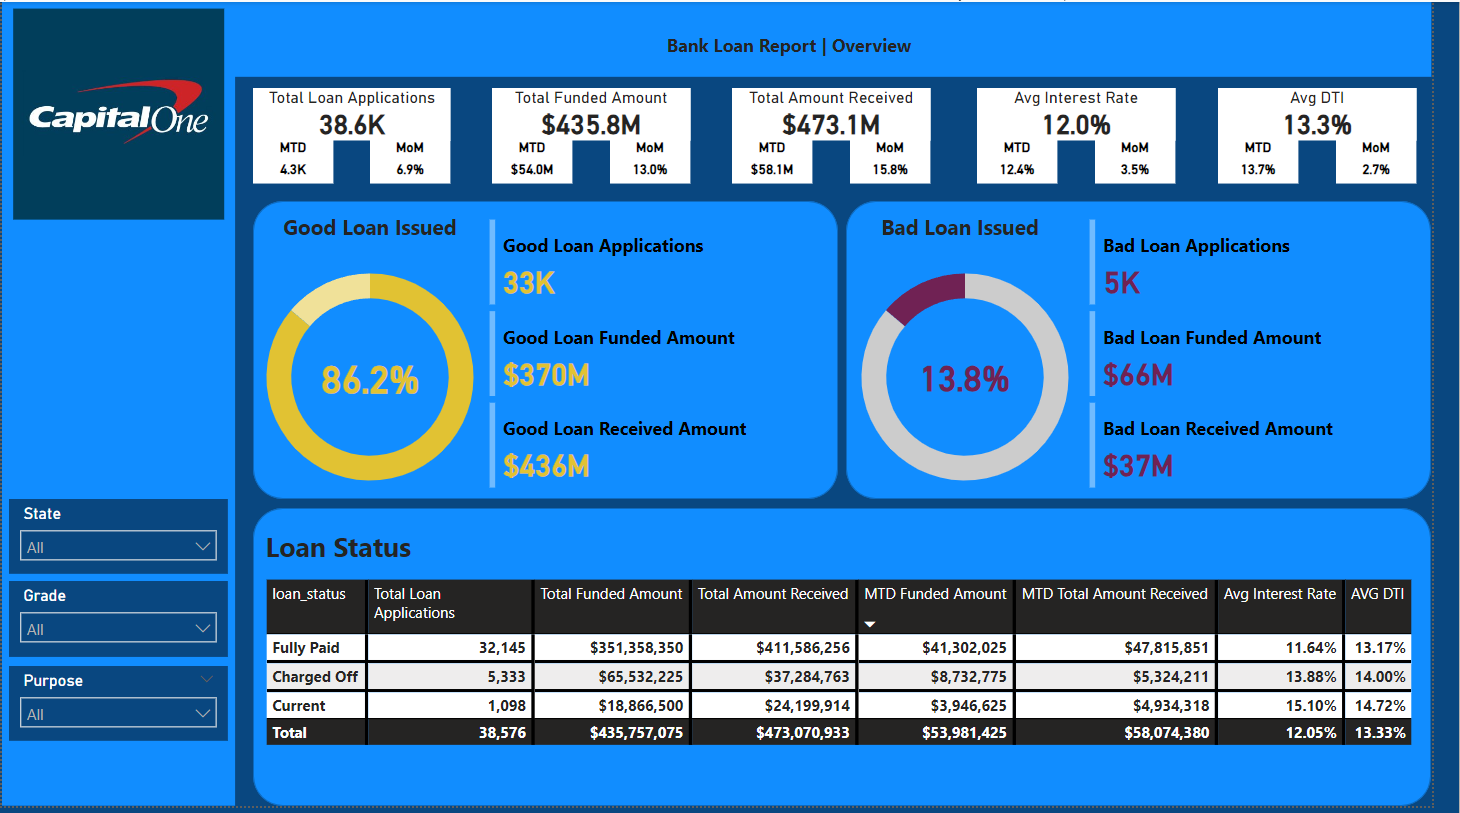

This screenshot's page, from the dashboard's own definition file:
{"tool":"powerbi","page":{"name":"Page 2","canvas":[1280,720],"ordinal":1},"visuals":[{"type":"shape","box":[0,0,1280,67.4],"z":0},{"type":"shape","box":[0,53.7,208.8,666.2],"z":1000},{"type":"textbox","box":[130.2,22.2,1149.8,36.6],"z":2000},{"type":"card","title":"Total Loan Applications","fields":{"Values":["CountNonNull(Bank_Loan_data.id)"]},"box":[224.8,77,177.3,46.6],"z":3000},{"type":"card","title":"Total Funded Amount","fields":{"Values":["Sum(Bank_Loan_data.loan_amount)"]},"box":[438.6,76.7,177.5,47],"z":4000},{"type":"card","title":"Avg Interest Rate","fields":{"Values":["Avg(Bank_Loan_data.int_rate)"]},"box":[873.4,76.7,177.5,47],"z":5000},{"type":"card","title":"Total Amount Received","fields":{"Values":["Sum(Bank_Loan_data.total_payment)"]},"box":[653.8,76.7,177.5,47],"z":6000},{"type":"card","title":"Avg DTI","fields":{"Values":["Avg(Bank_Loan_data.dti)"]},"box":[1088.7,76.7,177.5,47],"z":7000},{"type":"slicer","fields":{"Values":["Bank_Loan_data.address_state"]},"box":[6.3,445.1,196.1,67.2],"z":8000},{"type":"slicer","fields":{"Values":["Bank_Loan_data.grade"]},"box":[6.3,518.5,196.1,68.1],"z":9000},{"type":"slicer","fields":{"Values":["Bank_Loan_data.purpose"]},"box":[6.3,594.6,196.1,67.2],"z":10000},{"type":"card","title":"MTD","fields":{"Values":["Bank_Loan_data.MTD Loan Applications"]},"box":[224.8,123.6,71.6,39.4],"z":11000},{"type":"card","title":"MoM","fields":{"Values":["Bank_Loan_data.MoM Loan Application"]},"box":[329.6,123.6,71.6,39.4],"z":12000},{"type":"card","title":"MTD","fields":{"Values":["Bank_Loan_data.MTD Funded Amount"]},"box":[438.8,123.6,71.6,39.4],"z":13000},{"type":"card","title":"MoM","fields":{"Values":["Bank_Loan_data.MoM Total Funded Amount"]},"box":[544.5,123.6,71.6,39.4],"z":14000},{"type":"card","title":"MTD","fields":{"Values":["Bank_Loan_data.MTD Amount Received"]},"box":[653.7,123.6,71.6,39.4],"z":15000},{"type":"card","title":"MoM","fields":{"Values":["Bank_Loan_data.MoM Total Amount Received"]},"box":[759.4,123.6,71.6,39.4],"z":16000},{"type":"card","title":"MTD","fields":{"Values":["Bank_Loan_data.MTD Avg Interest Rate"]},"box":[873.1,123.6,71.6,39.4],"z":17000},{"type":"card","title":"MoM","fields":{"Values":["Bank_Loan_data.MoM Avg Int Rate"]},"box":[978.8,123.6,71.6,39.4],"z":18000},{"type":"card","title":"MTD","fields":{"Values":["Bank_Loan_data.MTD Avg DTI"]},"box":[1089,123.6,71.6,39.4],"z":19000},{"type":"card","title":"MoM","fields":{"Values":["Bank_Loan_data.MoM AVG DTI"]},"box":[1194.6,123.6,71.6,39.4],"z":20000},{"type":"shape","box":[224.8,178.2,523.9,266.9],"z":21000},{"type":"donutChart","fields":{"Category":["Bank_Loan_data.Good vs Bad Loan"],"Y":["CountNonNull(Bank_Loan_data.Good vs Bad Loan)"]},"box":[114.6,214.9,429.9,241.8],"z":22000},{"type":"shape","box":[755.8,178.2,523.9,266.9],"z":23000},{"type":"textbox","box":[161.2,183.6,336.7,48.4],"z":24000},{"type":"cardVisual","fields":{"Data":["Bank_Loan_data.Good Loan Applications","Bank_Loan_data.Good Loan Funded Amount","Bank_Loan_data.Good Loan Received Amount"]},"box":[431.6,189.9,310.7,251.6],"z":25000},{"type":"donutChart","fields":{"Category":["Bank_Loan_data.Good vs Bad Loan"],"Y":["CountNonNull(Bank_Loan_data.Good vs Bad Loan)"]},"box":[647.5,214.9,429.9,241.8],"z":26000},{"type":"textbox","box":[689.6,183.6,336.7,48.4],"z":27000},{"type":"card","title":"MoM","fields":{"Values":["Bank_Loan_data.Good Loan %"]},"box":[280.3,308.1,98.5,54.6],"z":28000},{"type":"card","title":"MoM","fields":{"Values":["Bank_Loan_data.Bad Loan %"]},"box":[806,298.2,111.9,74.3],"z":29000},{"type":"cardVisual","fields":{"Data":["Bank_Loan_data.Bad Loan Applications","Bank_Loan_data.Bad Loan Funded Amount","Bank_Loan_data.Bad Loan Received Amount"]},"box":[969,189.9,310.7,251.6],"z":30000},{"type":"shape","box":[224.8,453.1,1054.9,266.9],"z":31000},{"type":"tableEx","fields":{"Values":["Bank_Loan_data.loan_status","Bank_Loan_data.Total Loan Applications","Bank_Loan_data.Total Funded Amount","Bank_Loan_data.Total Amount Received","Bank_Loan_data.MTD Funded Amount","Bank_Loan_data.MTD Total Amount Received","Bank_Loan_data.Avg Interest Rate","Bank_Loan_data.AVG DTI"]},"box":[231,512.2,1048.7,164.8],"z":32000},{"type":"textbox","box":[231,465.7,300,46.6],"z":33000},{"type":"image","box":[0,0.9,208.7,198.8],"z":34000}]}

Visuals, with their boxes in screenshot pixels (x1, y1, x2, y2), scaled from the page's 1280x720 canvas onto the 1460x813 screenshot:
shape: crop(0, 0, 1459, 76)
shape: crop(0, 61, 238, 812)
textbox: crop(149, 25, 1459, 66)
"Total Loan Applications" card: crop(256, 87, 459, 140)
"Total Funded Amount" card: crop(500, 87, 703, 140)
"Avg Interest Rate" card: crop(996, 87, 1199, 140)
"Total Amount Received" card: crop(746, 87, 948, 140)
"Avg DTI" card: crop(1242, 87, 1444, 140)
slicer - Bank_Loan_data.address_state: crop(7, 503, 231, 578)
slicer - Bank_Loan_data.grade: crop(7, 585, 231, 662)
slicer - Bank_Loan_data.purpose: crop(7, 671, 231, 747)
"MTD" card: crop(256, 140, 338, 184)
"MoM" card: crop(376, 140, 458, 184)
"MTD" card: crop(501, 140, 582, 184)
"MoM" card: crop(621, 140, 703, 184)
"MTD" card: crop(746, 140, 827, 184)
"MoM" card: crop(866, 140, 948, 184)
"MTD" card: crop(996, 140, 1078, 184)
"MoM" card: crop(1116, 140, 1198, 184)
"MTD" card: crop(1242, 140, 1324, 184)
"MoM" card: crop(1363, 140, 1444, 184)
shape: crop(256, 201, 854, 503)
donutChart - Bank_Loan_data.Good vs Bad Loan x CountNonNull(Bank_Loan_data.Good vs Bad Loan): crop(131, 243, 621, 516)
shape: crop(862, 201, 1459, 503)
textbox: crop(184, 207, 568, 262)
cardVisual - Bank_Loan_data.Good Loan Applications x Bank_Loan_data.Good Loan Funded Amount: crop(492, 214, 847, 499)
donutChart - Bank_Loan_data.Good vs Bad Loan x CountNonNull(Bank_Loan_data.Good vs Bad Loan): crop(739, 243, 1229, 516)
textbox: crop(787, 207, 1171, 262)
"MoM" card: crop(320, 348, 432, 410)
"MoM" card: crop(919, 337, 1047, 421)
cardVisual - Bank_Loan_data.Bad Loan Applications x Bank_Loan_data.Bad Loan Funded Amount: crop(1105, 214, 1459, 499)
shape: crop(256, 512, 1459, 812)
tableEx - Bank_Loan_data.loan_status x Bank_Loan_data.Total Loan Applications: crop(263, 578, 1459, 764)
textbox: crop(263, 526, 606, 578)
image: crop(0, 1, 238, 225)
